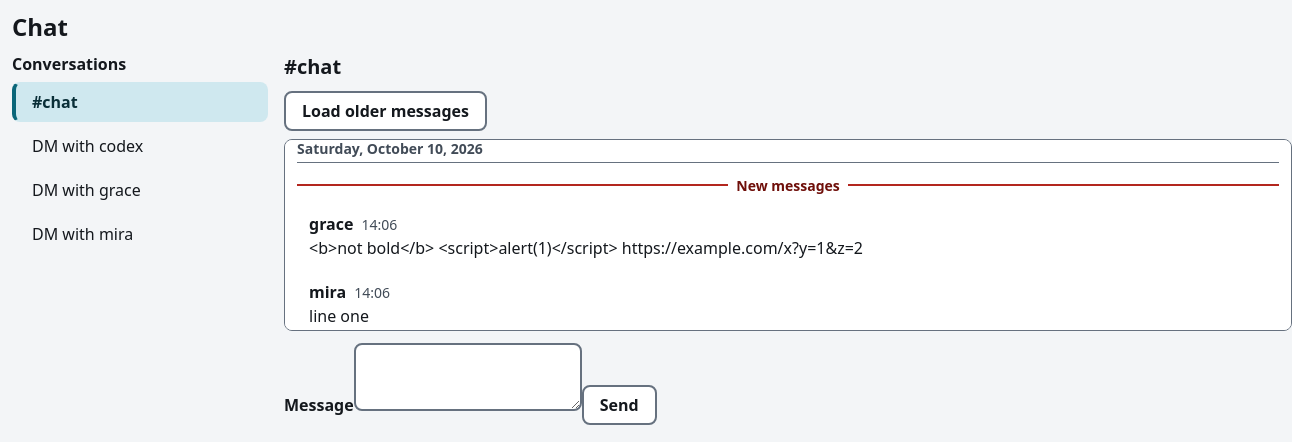
the Chat view (ui-contract sections 2, 3 and 5) › lists a DM older than the newest page and, opened, says in the feed what to press, with that button there to press
This screenshot has width=1292, height=442.
Click the button "DM with mira": x=140, y=234 12,214 -> 268,254
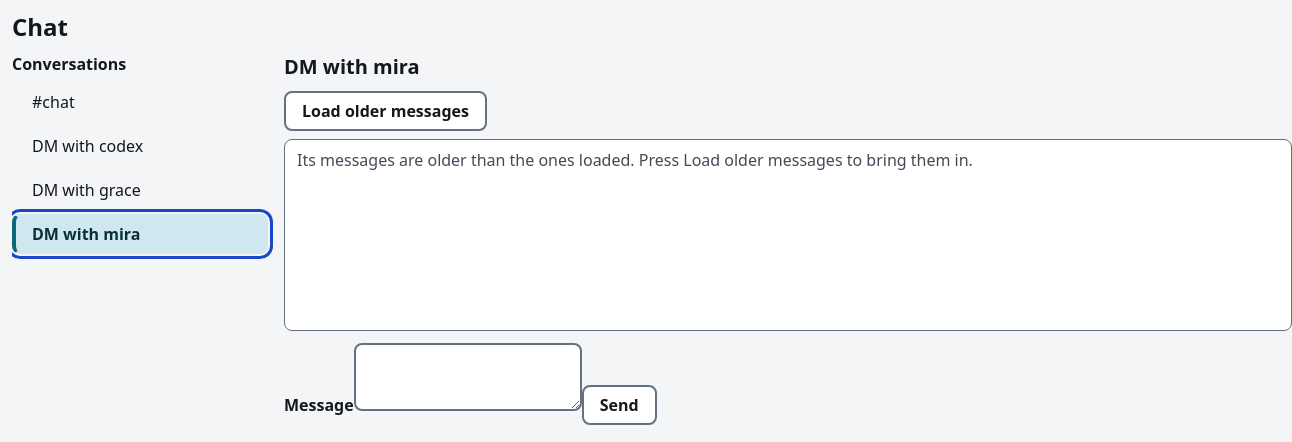
Now the element "messages" shows "Its messages are older than the ones loaded. Press Load older messages to bring them in.", box 297,149 -> 973,171
Click the button "Load older messages": x=386, y=111 284,91 -> 487,131
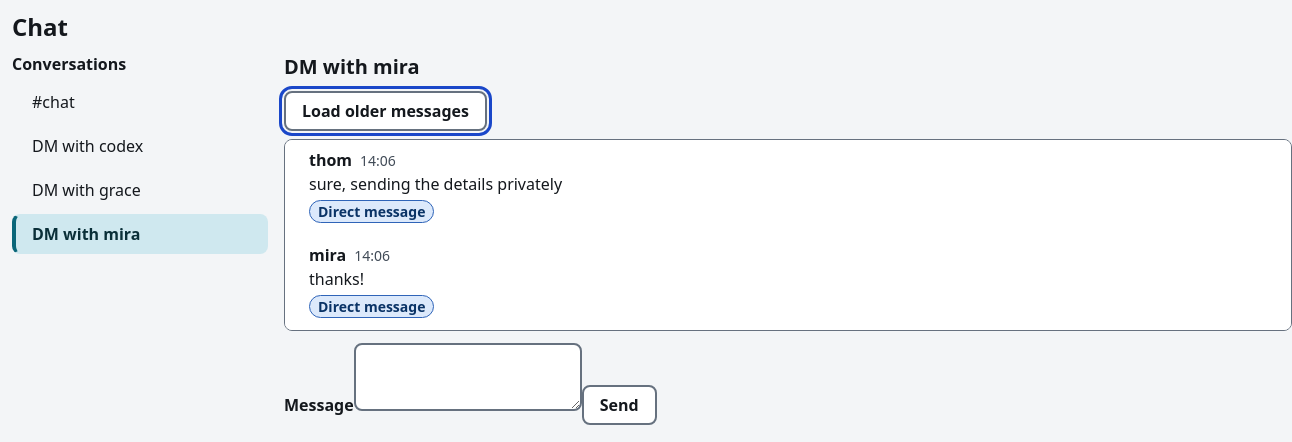
Now the text "messages" no longer shows "older than the ones loaded"
Now the element named "thom at 14:06" is shown, box 309,148 -> 562,222
